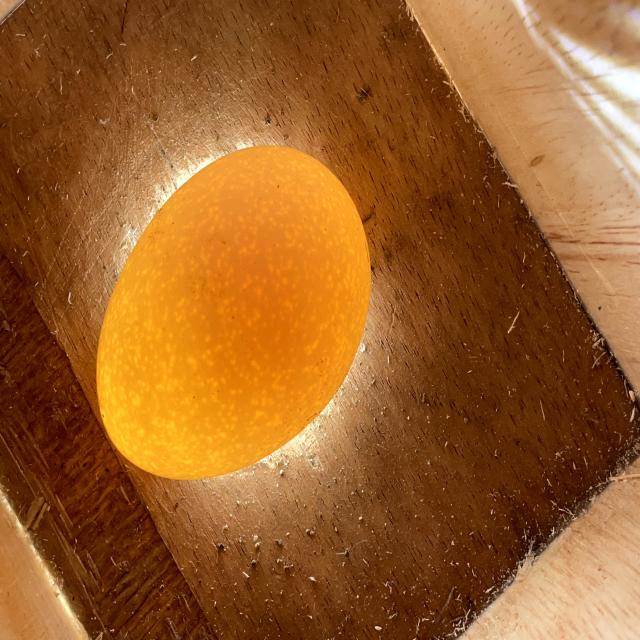infertile: (96, 147, 370, 480)
